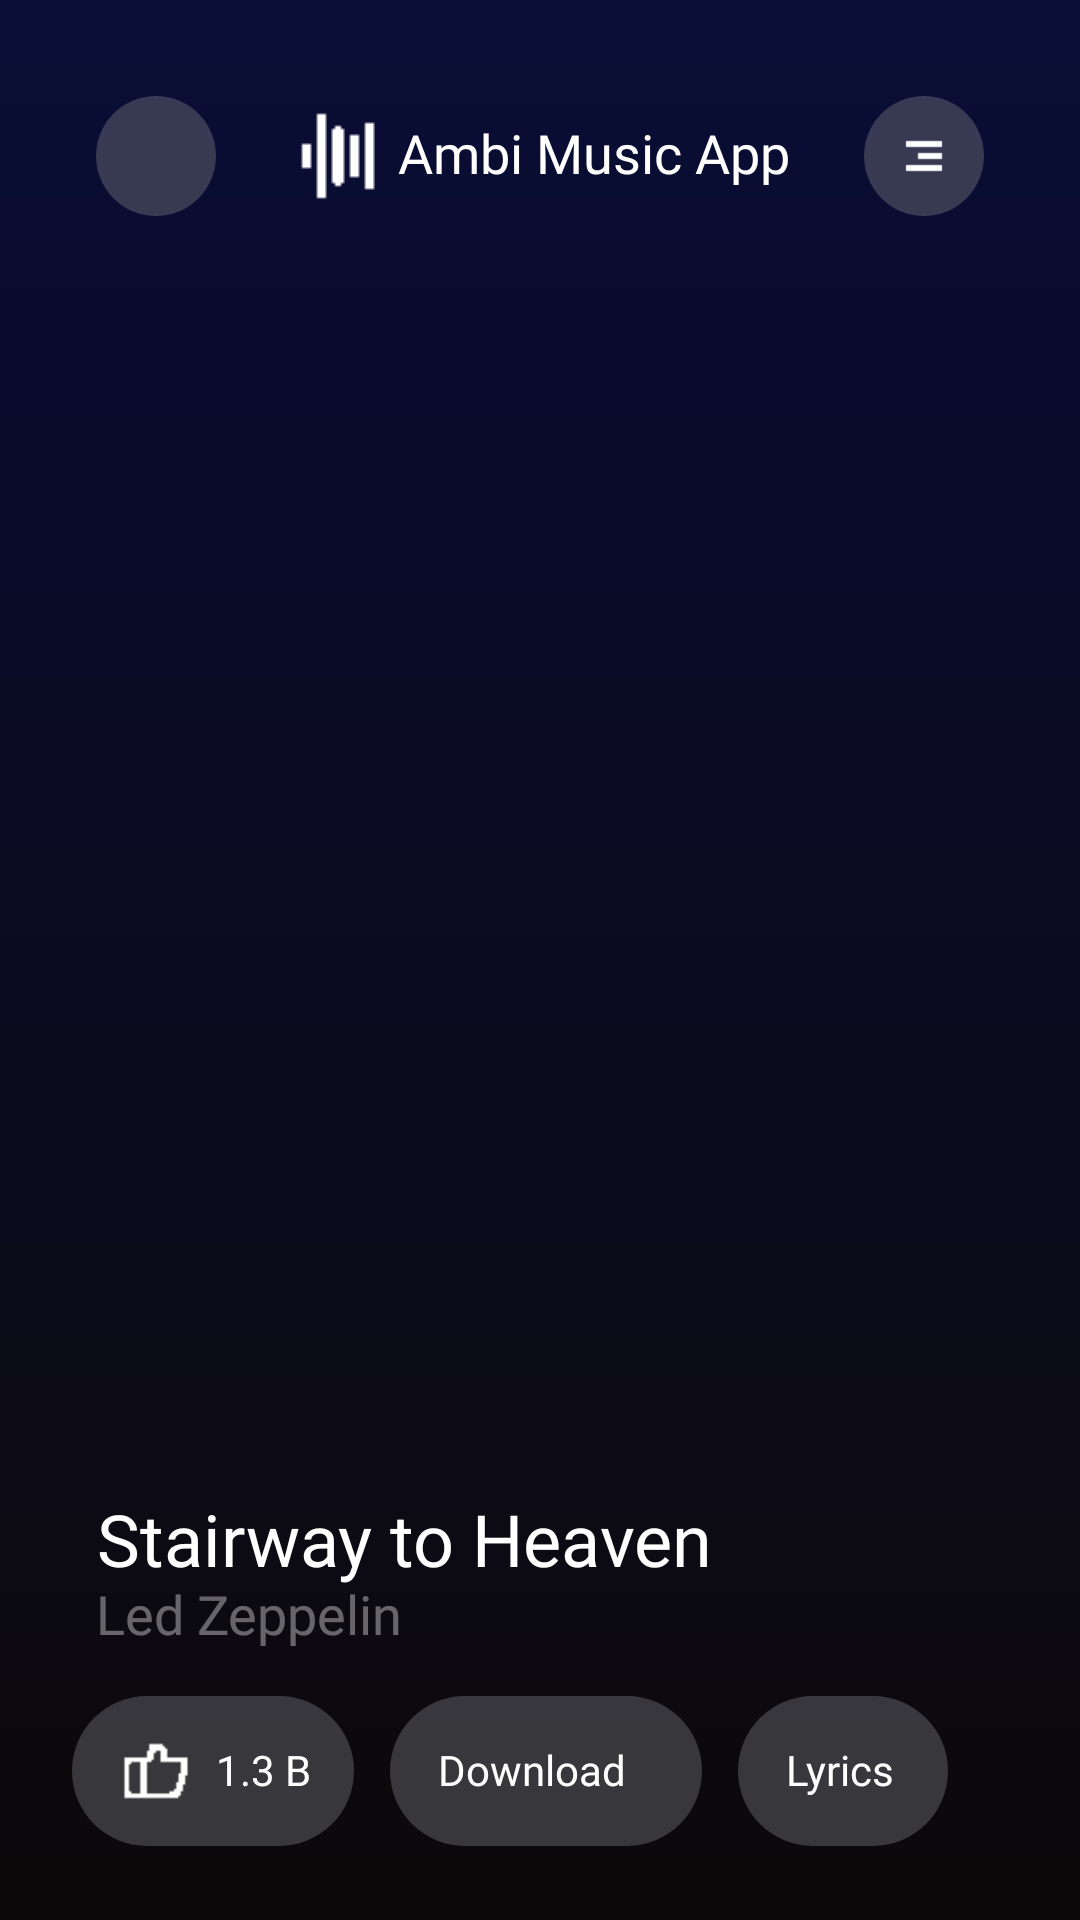

Screen size 1080px×1920px. Icon name, then its box in pixels as (x1, y1, x2, y2):
like: (124, 1743, 188, 1799)
menu: (864, 96, 984, 216)
